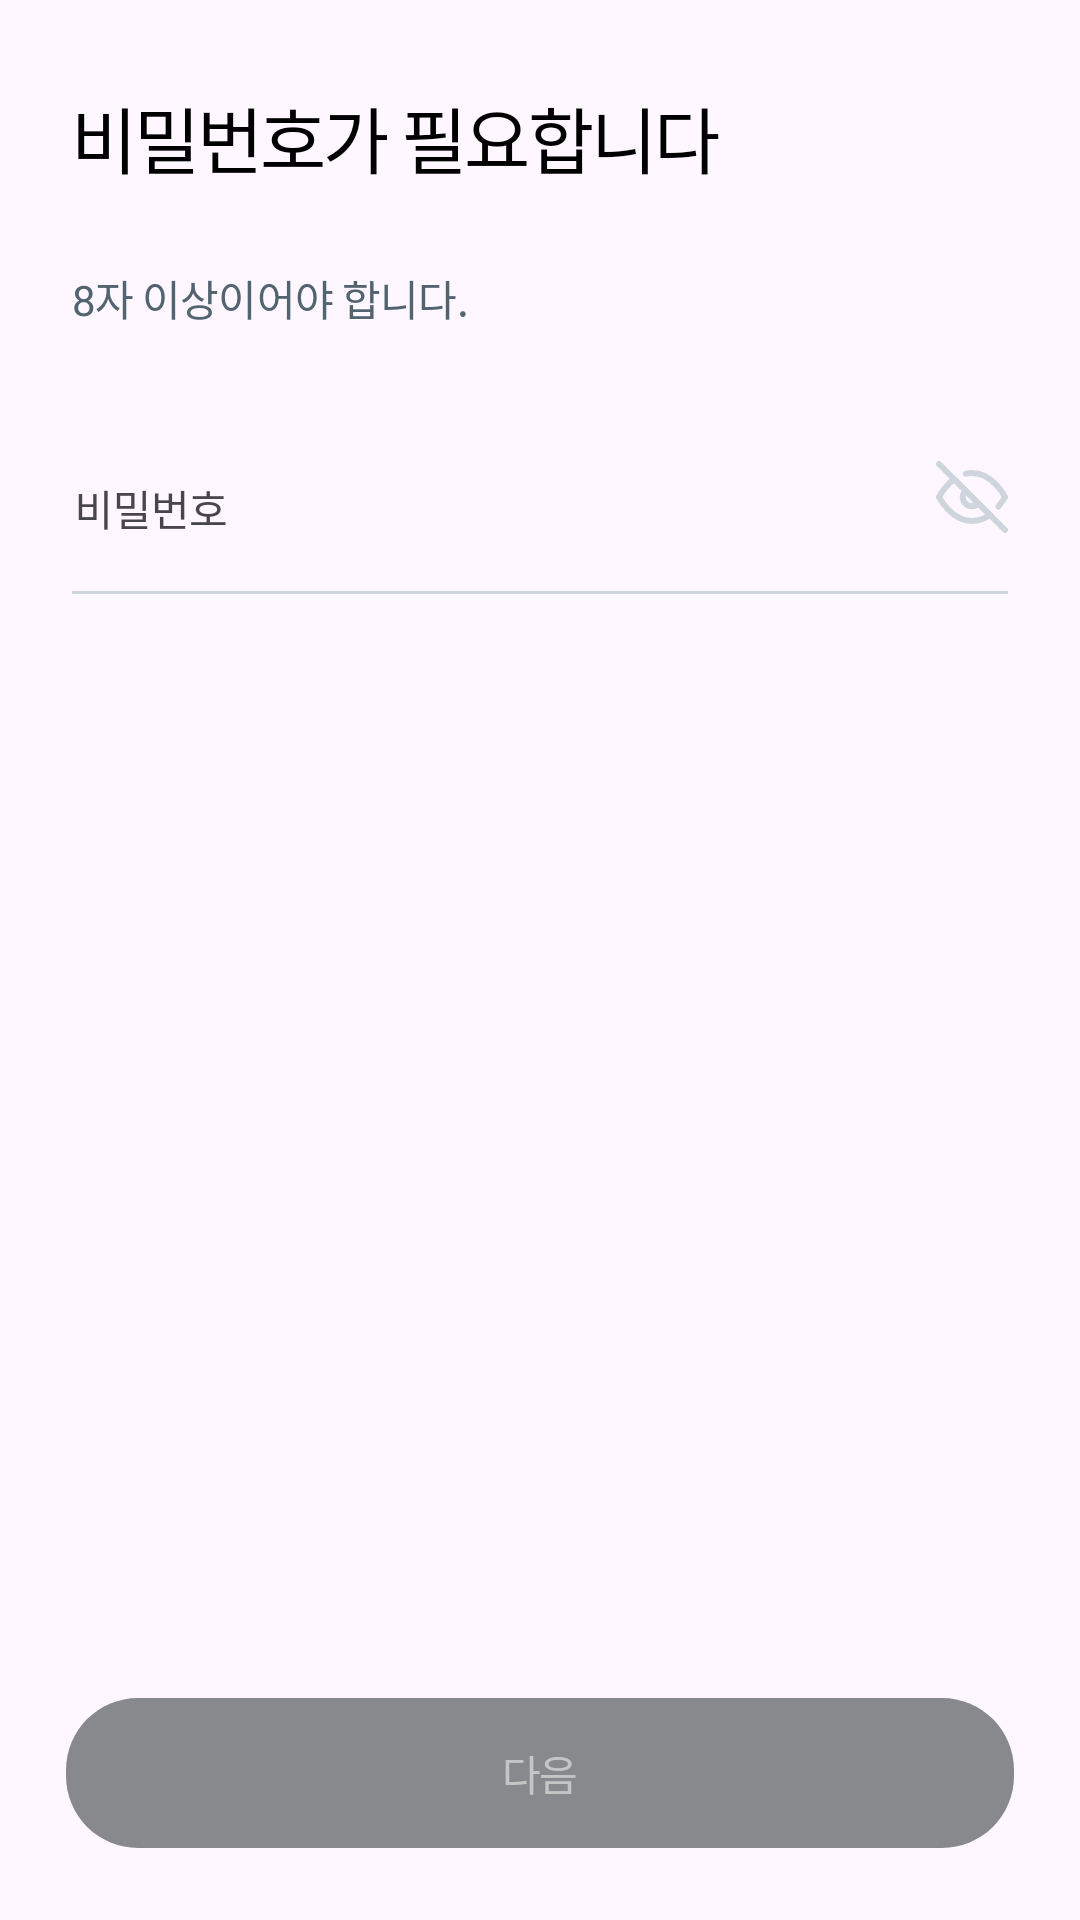

Locate icon controls on the screen. Image size 1080×1920, boxes as box=[x1, y1, x2, y2].
eye off: box=[936, 461, 1008, 533]
